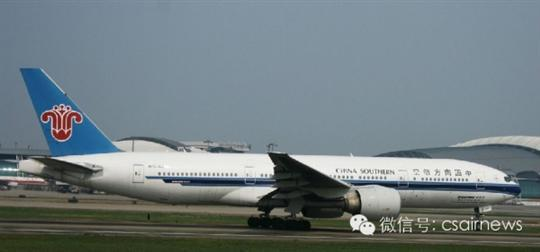airplane: (11, 65, 520, 221)
